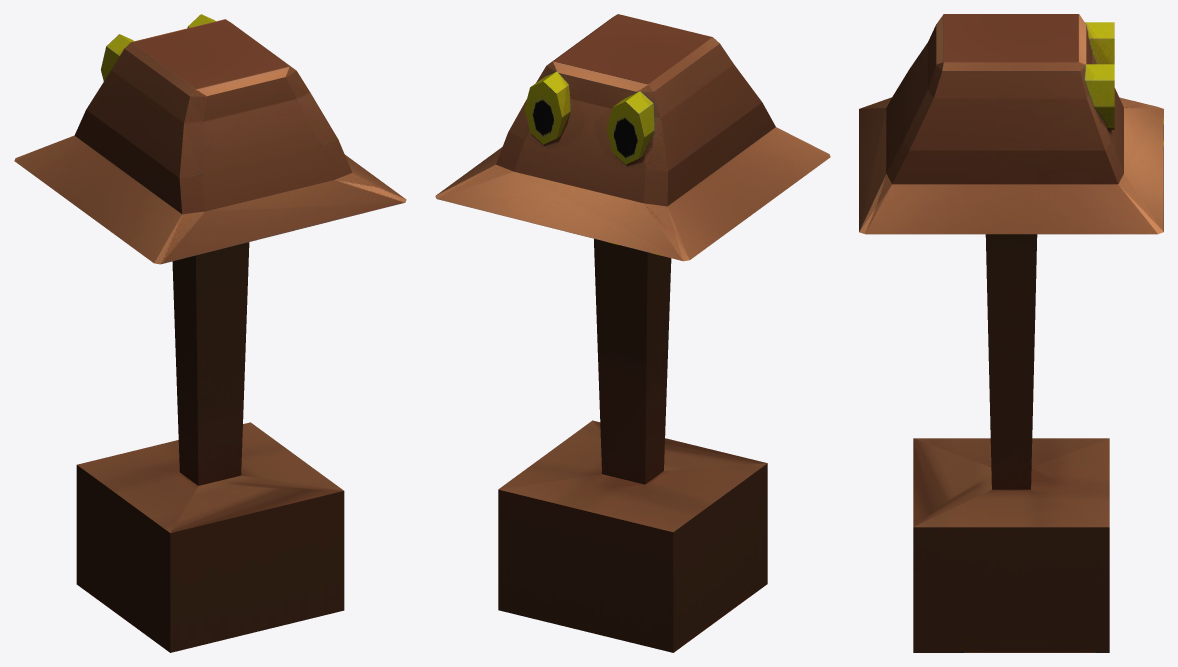
Rendered from doublebaker4.dae.
3 views of the same model, side by side, from view 1: azimuth 30°, elevation 25°; view 2: azimuth 150°, elevation 25°; view 3: azimuth 270°, elevation 25° (orthographic). The views are drawn at different scales.
Visible parts, largest first — view 1: doublebaker; view 2: doublebaker; view 3: doublebaker.
Boxes of the visible parts, box(x1,y1,x2,y2) form: doublebaker: box(14, 14, 406, 652); doublebaker: box(435, 14, 830, 652); doublebaker: box(859, 14, 1163, 652).
Bounding box in the file's own units: 2.01 × 2 × 4.13.
Materials: 1 (1 with a texture image).
